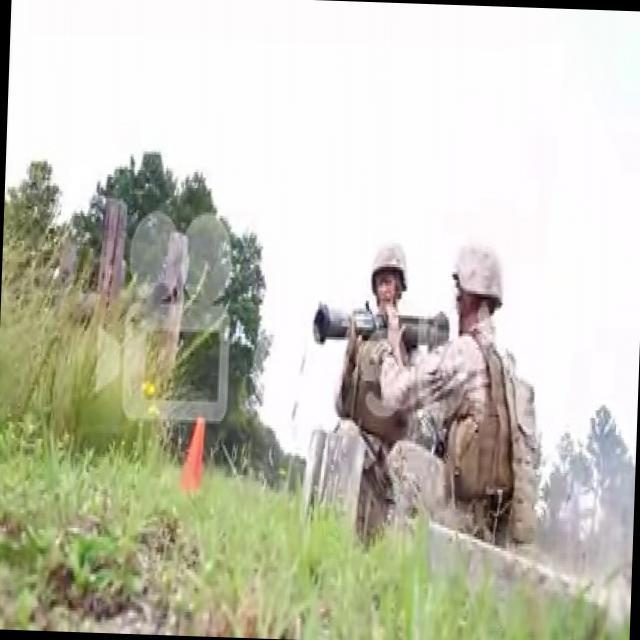rocket: (314, 298, 448, 351)
